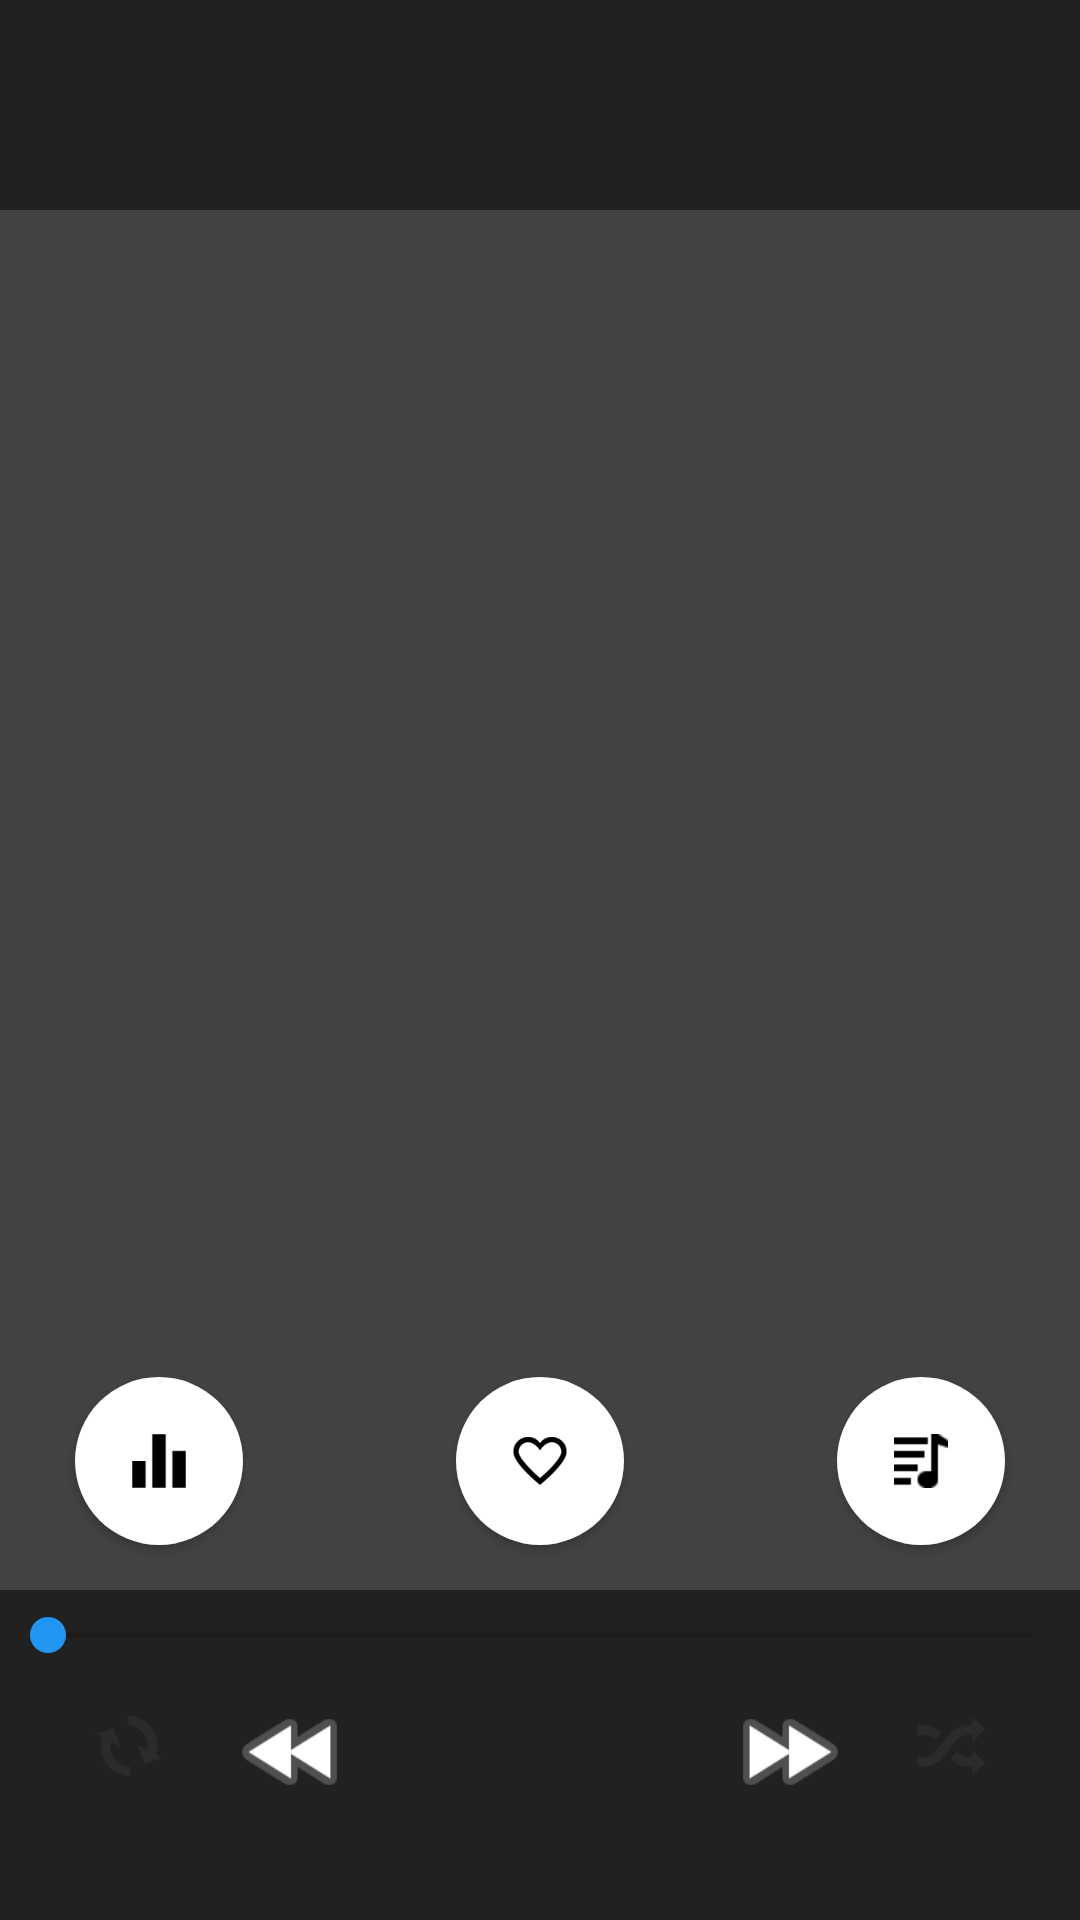

Where to tap for icons on this 1080 x 1920 app screen, as point (x, y):
add playlist: point (921, 1461)
equalizer: point (159, 1461)
fav: point (540, 1461)
rew: point (289, 1752)
